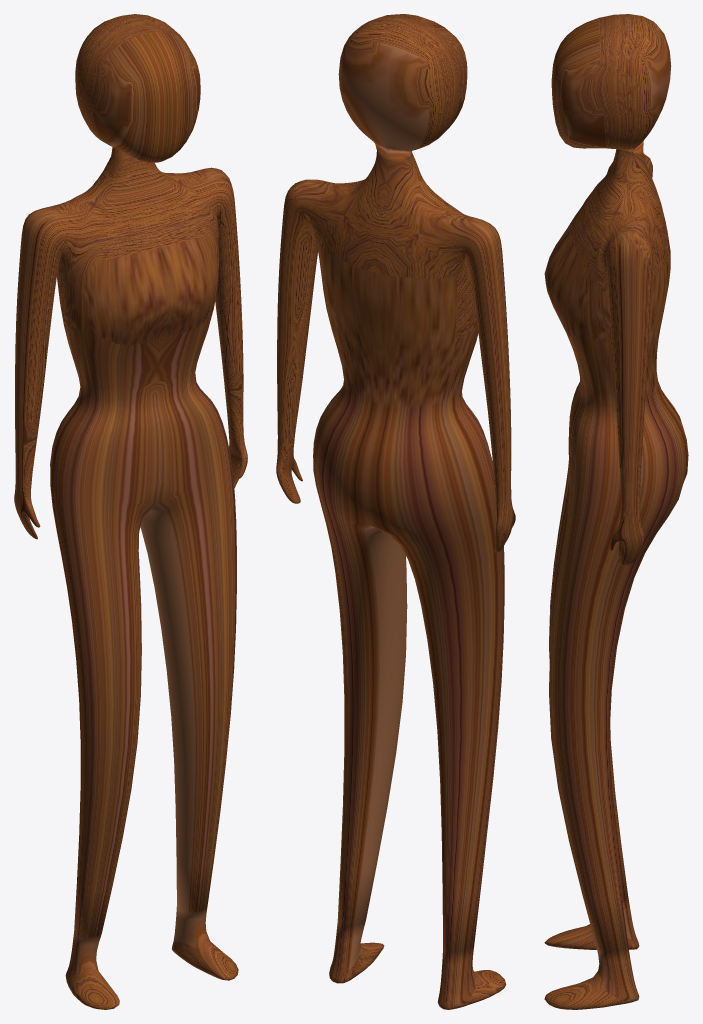
Rendered from mannequin_wooden.fbx.
3 views of the same model, side by side, from view 1: azimuth 30°, elevation 25°; view 2: azimuth 150°, elevation 25°; view 3: azimuth 270°, elevation 25° (orthographic). The views are drawn at different scales.
Parts seen in each view (by area): view 1: Cube; view 2: Cube; view 3: Cube.
Boxes of the visible parts, x1=… form: Cube: x1=14, y1=14, x2=247, y2=1009; Cube: x1=276, y1=14, x2=515, y2=1009; Cube: x1=544, y1=14, x2=688, y2=1009.
Size of the model in its own units: 189 by 761 by 104.
1 material, 1 textured.
